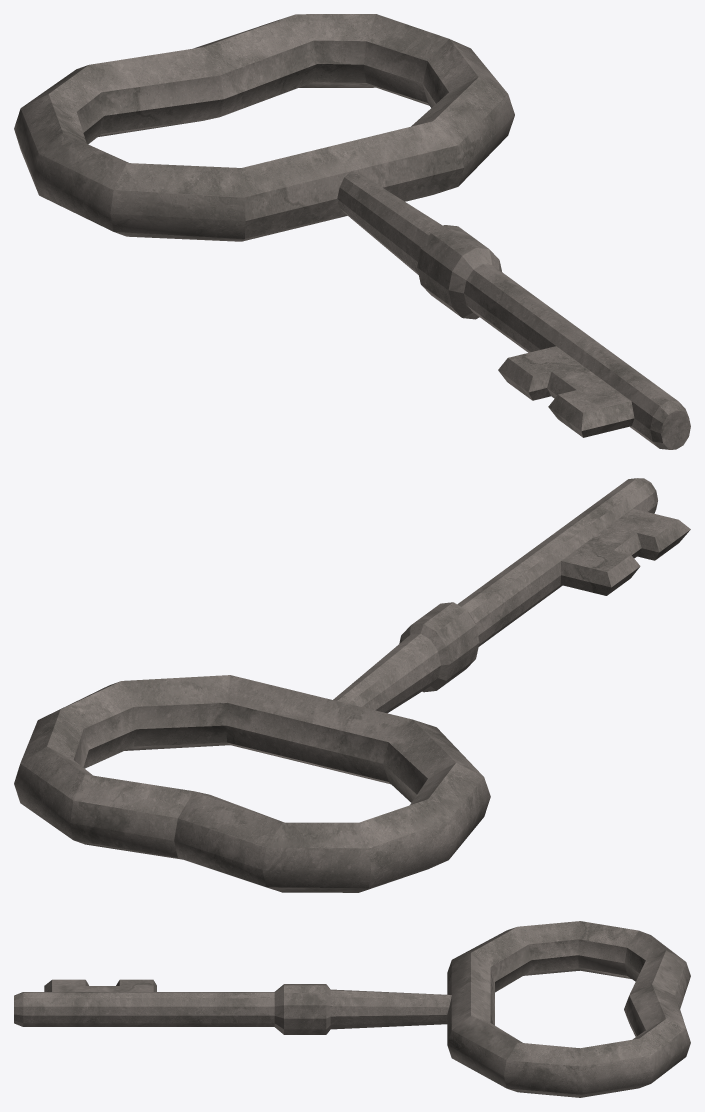
File: key3.fbx
3 views of the same model, one above another, from view 1: azimuth 30°, elevation 25°; view 2: azimuth 150°, elevation 25°; view 3: azimuth 270°, elevation 25° (orthographic). The views are drawn at different scales.
Visible parts, largest first — view 1: Key3; view 2: Key3; view 3: Key3.
Part boxes in pixels (box(x1,y1,x2,y2)): Key3: box(14, 14, 690, 449); Key3: box(14, 478, 690, 892); Key3: box(14, 921, 690, 1097).
Size of the model in its own units: 160 by 25.65 by 314.
